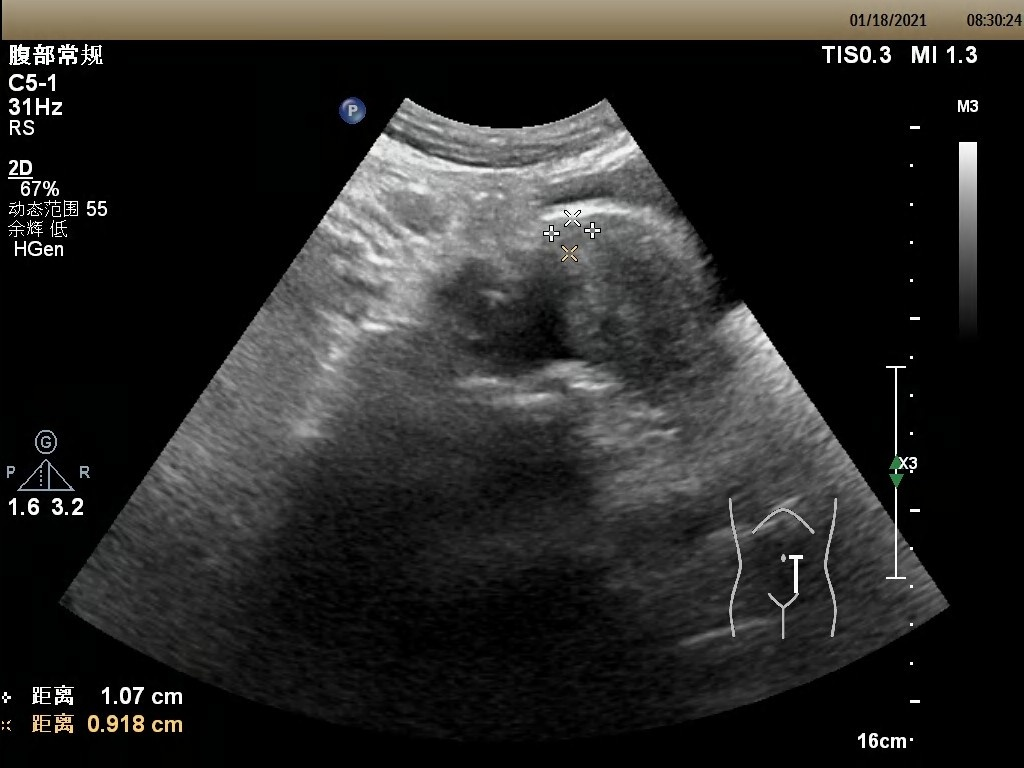肌瘤: (551, 222, 591, 252)
